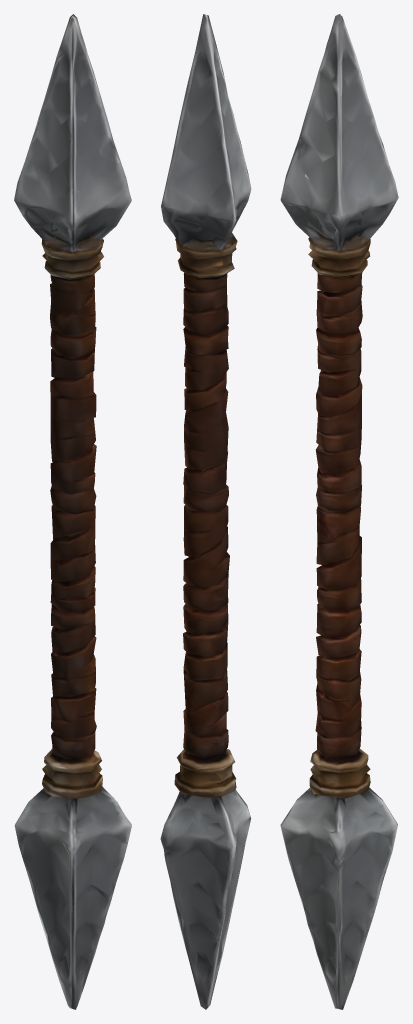
Rendered from senior_warden_spear.glb.
The picture shows the model from 3 angles, left to right: view 1: azimuth 90°, elevation 25°; view 2: azimuth 210°, elevation 25°; view 3: azimuth 270°, elevation 25°; orthographic projection.
Visible parts, largest first — view 1: tripo_node_53ce740f-3bc9-4156-8603-2ef5342ef95e; view 2: tripo_node_53ce740f-3bc9-4156-8603-2ef5342ef95e; view 3: tripo_node_53ce740f-3bc9-4156-8603-2ef5342ef95e.
Boxes of the visible parts, <box> form: tripo_node_53ce740f-3bc9-4156-8603-2ef5342ef95e: <box>14,14,131,1009</box>; tripo_node_53ce740f-3bc9-4156-8603-2ef5342ef95e: <box>160,14,251,1009</box>; tripo_node_53ce740f-3bc9-4156-8603-2ef5342ef95e: <box>280,14,398,1009</box>.
Size of the model in its own units: 0.0953 by 1 by 0.1075.
Materials: 1 (1 with a texture image).
